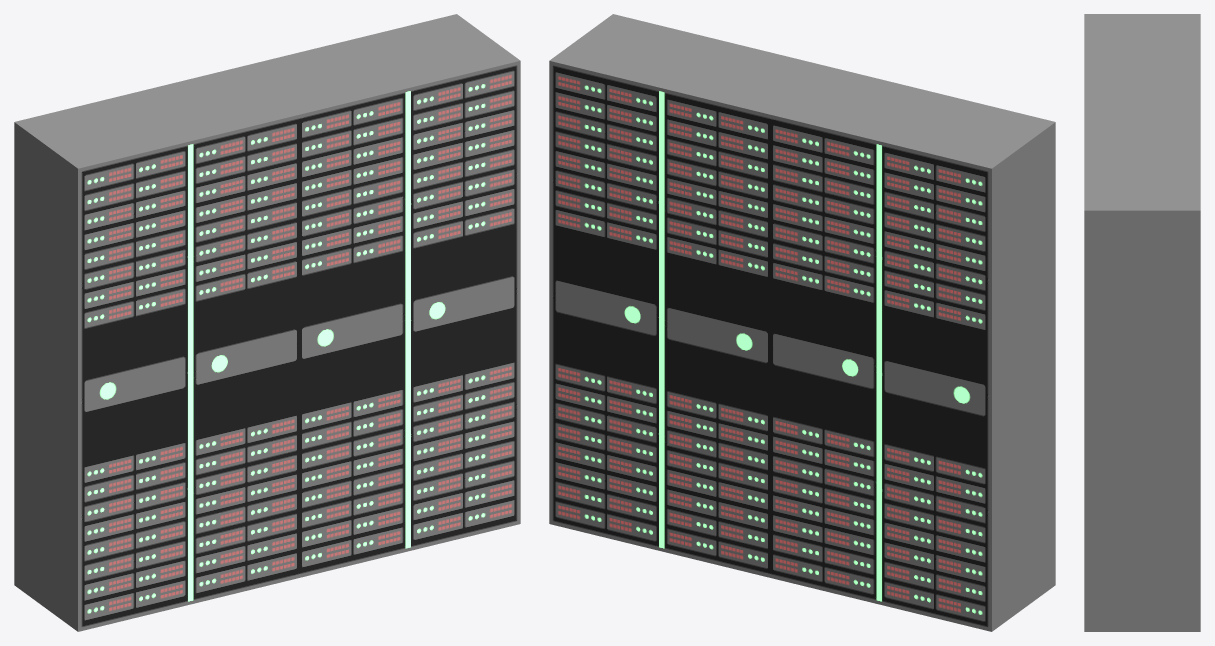
File: parede.glb
3 renders of one model, left to right at view 1: azimuth 30°, elevation 25°; view 2: azimuth 150°, elevation 25°; view 3: azimuth 270°, elevation 25°, orthographic. The views are drawn at different scales.
Visible parts, largest first — view 1: Cube.003; view 2: Cube.003; view 3: Cube.003.
Boxes of the visible parts, x1=… form: Cube.003: x1=14, y1=14, x2=520, y2=631; Cube.003: x1=549, y1=14, x2=1055, y2=631; Cube.003: x1=1084, y1=14, x2=1200, y2=631.
Size of the model in its own units: 3 by 3 by 0.75.
Materials: 1 (1 with a texture image).
